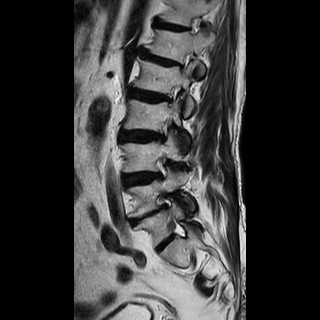RFS1: (149, 189, 180, 219)
